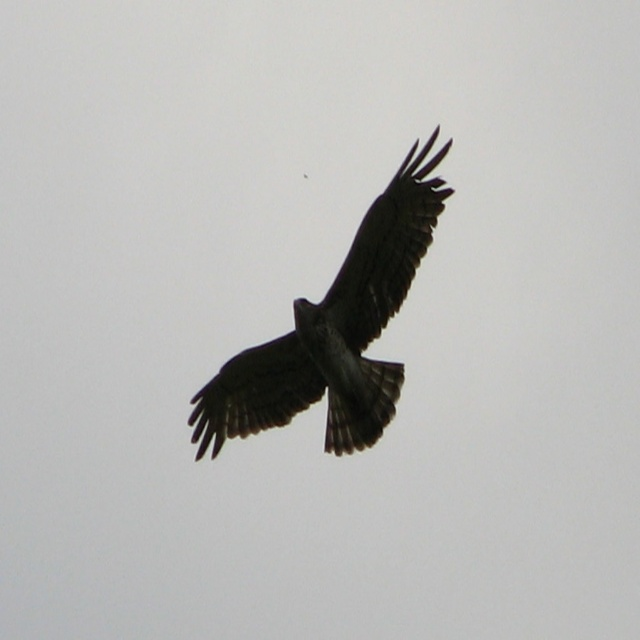Eagle: (187, 124, 455, 462)
